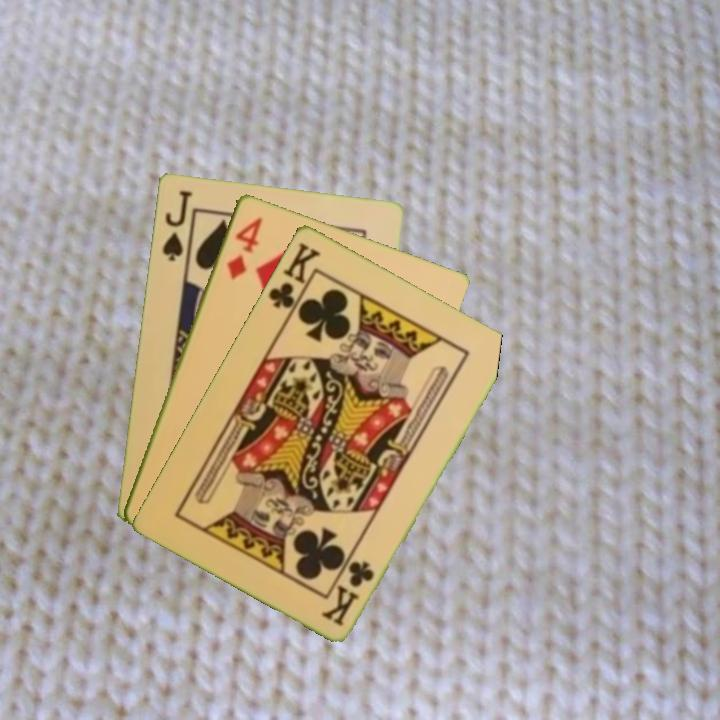4d: (222, 213, 265, 282)
Js: (158, 187, 195, 264)
Kc: (264, 238, 324, 320), (319, 557, 377, 629)
